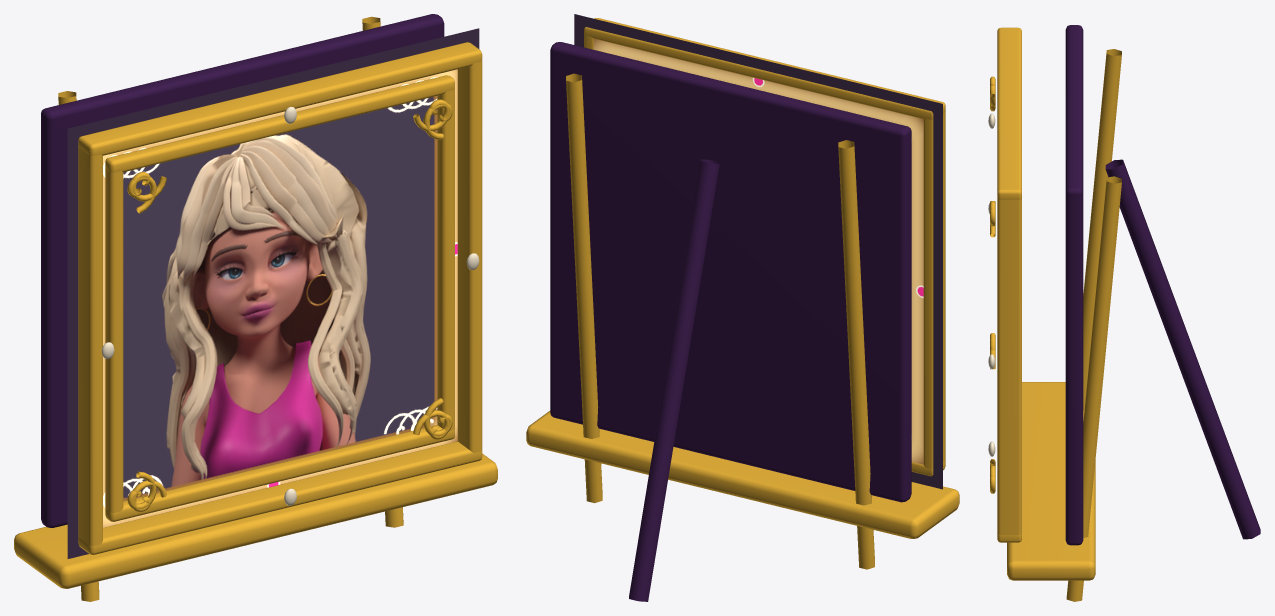
File: profile.frame.gilt.glb
3 views of the same model, side by side, from view 1: azimuth 30°, elevation 25°; view 2: azimuth 150°, elevation 25°; view 3: azimuth 270°, elevation 25° (orthographic). The views are drawn at different scales.
Visible parts, largest first — view 1: artwork, print_support, shelf_lip, cast_outer_moulding_rail.001, cast_outer_moulding_stile.001, cast_outer_moulding_stile, cast_outer_moulding_rail, inner_bead_rail.001, inner_bead_stile, inner_bead_rail, inner_bead_stile.001; view 2: print_support, artwork, shelf_lip, back_leg, easel_leg.001, easel_leg, cast_outer_moulding_stile, cast_outer_moulding_rail.001; view 3: shelf_lip, print_support, cast_outer_moulding_stile.001, back_leg, easel_leg.001, easel_leg, cast_outer_moulding_rail.001.
Boxes of the visible parts, bbox=[...] form: artwork: bbox=[67, 28, 479, 558]; print_support: bbox=[41, 14, 444, 527]; shelf_lip: bbox=[14, 453, 497, 588]; cast_outer_moulding_rail.001: bbox=[78, 42, 482, 155]; cast_outer_moulding_stile.001: bbox=[457, 61, 482, 453]; cast_outer_moulding_stile: bbox=[78, 147, 102, 545]; cast_outer_moulding_rail: bbox=[78, 441, 482, 554]; inner_bead_rail.001: bbox=[105, 75, 454, 172]; inner_bead_stile: bbox=[105, 168, 123, 512]; inner_bead_rail: bbox=[105, 425, 454, 521]; inner_bead_stile.001: bbox=[437, 89, 454, 430]; print_support: bbox=[550, 42, 911, 502]; artwork: bbox=[574, 14, 942, 489]; shelf_lip: bbox=[526, 411, 959, 538]; back_leg: bbox=[629, 159, 719, 601]; easel_leg.001: bbox=[566, 73, 602, 503]; easel_leg: bbox=[838, 140, 874, 569]; cast_outer_moulding_stile: bbox=[923, 111, 945, 468]; cast_outer_moulding_rail.001: bbox=[584, 18, 945, 119]; shelf_lip: bbox=[1007, 382, 1095, 580]; print_support: bbox=[1065, 25, 1083, 545]; cast_outer_moulding_stile.001: bbox=[997, 199, 1021, 534]; back_leg: bbox=[1105, 159, 1260, 539]; easel_leg.001: bbox=[1066, 176, 1121, 601]; easel_leg: bbox=[1083, 49, 1121, 410]; cast_outer_moulding_rail.001: bbox=[997, 27, 1021, 199].
Bounding box in the file's own units: 0.6764 × 0.75 × 0.4236.
Materials: 4 (1 with a texture image).
